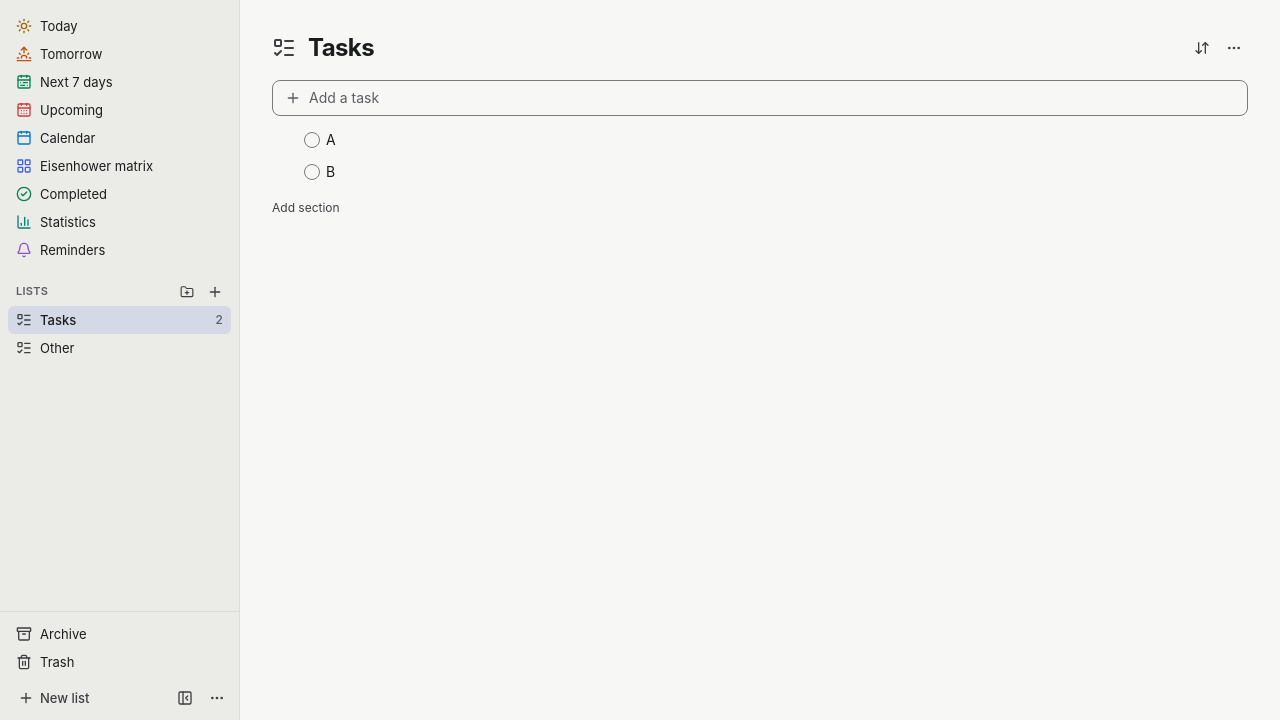
Test case: selecting several tasks in a to-do list › hides the details panel while several are selected
Step 1. Click the list item named "A" → point(338, 140), box [304,128,373,152]
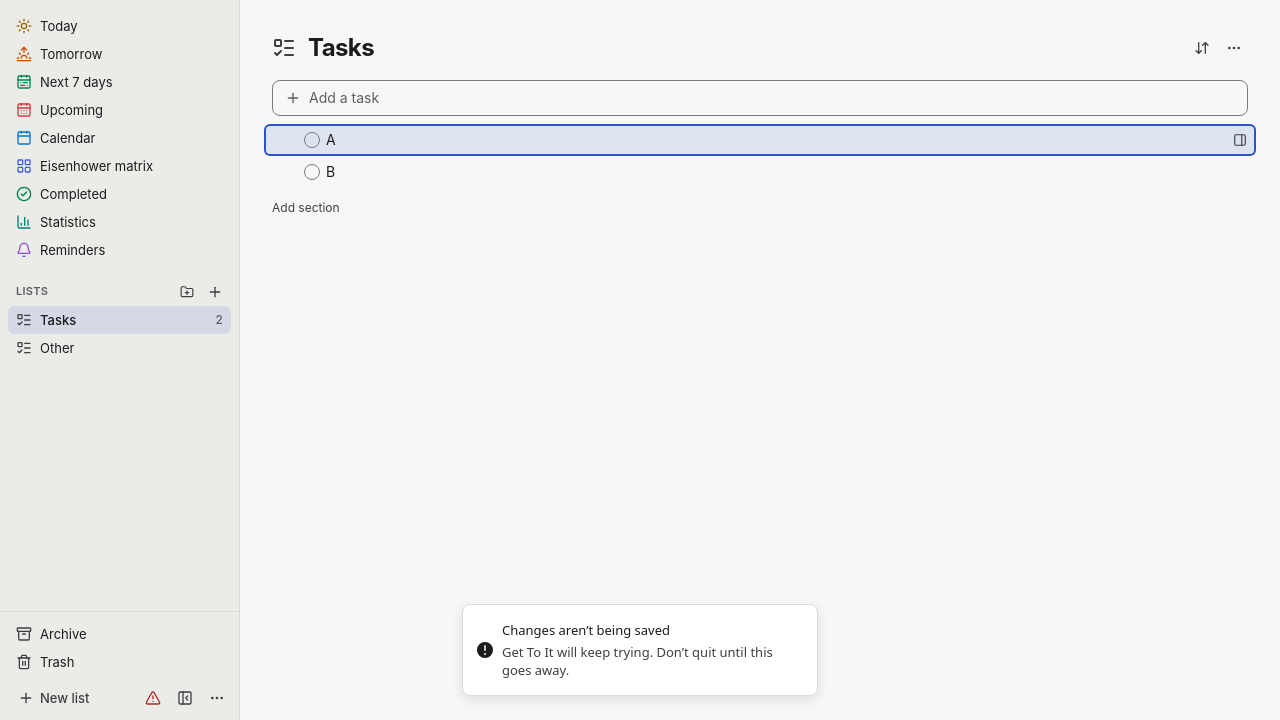
Step 2. Type keys "{Control>}i{/Control}"
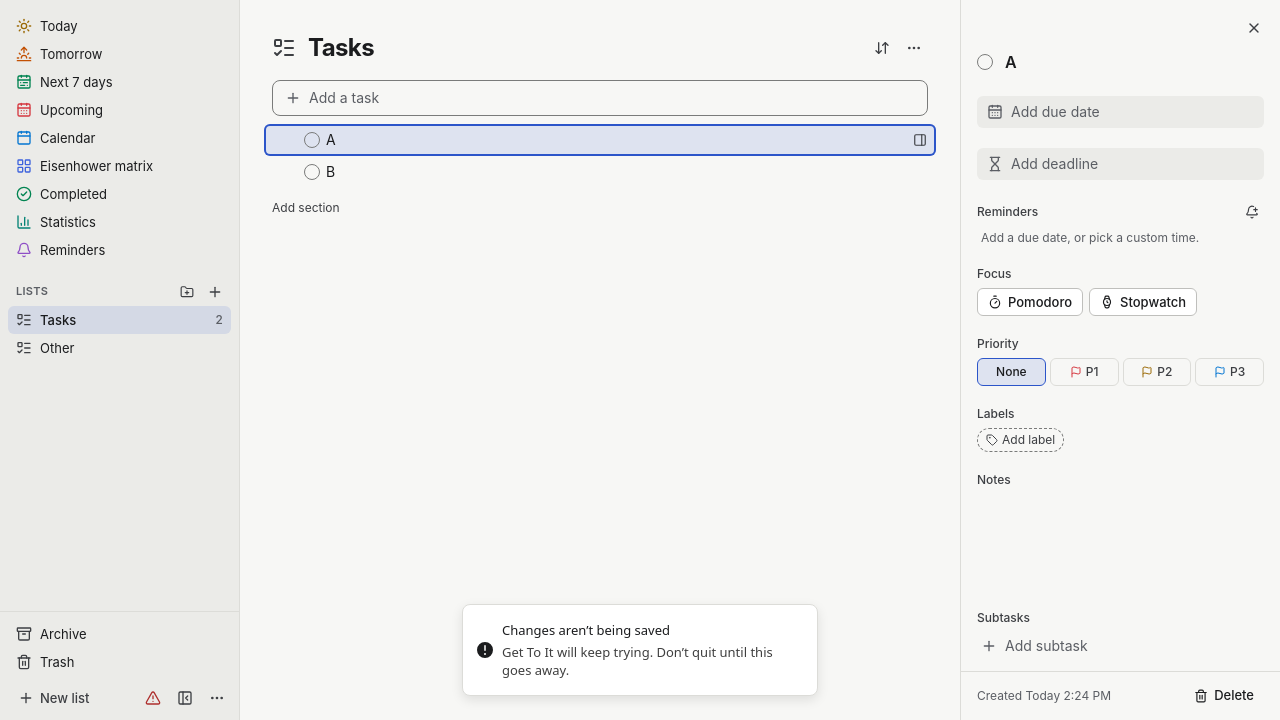
Now the text box named "Task title" is shown, box [1001,48,1264,76]
Step 3. Type keys "{Shift>}"
Step 4. Click the list item named "B" → point(338, 172), box [304,160,373,184]
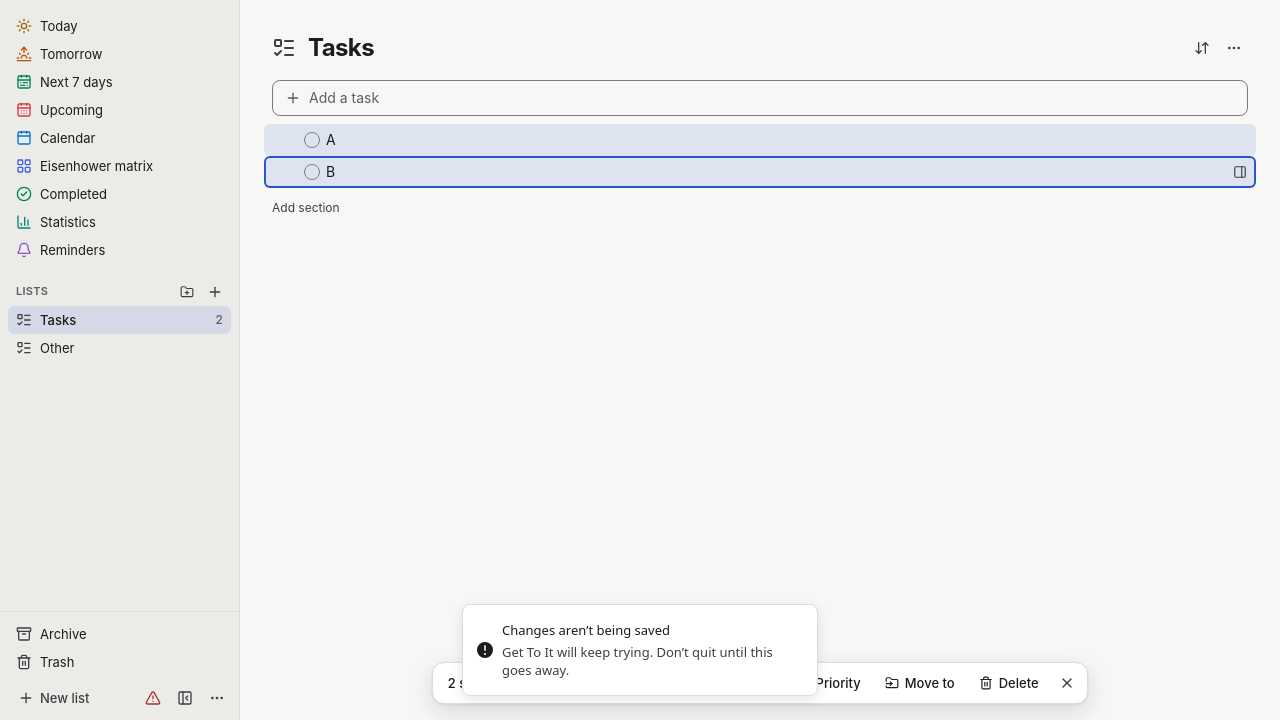
Step 5. Type keys "{/Shift}"
Step 6. Click the list item named "A" → point(760, 140), box [264,124,1256,156]
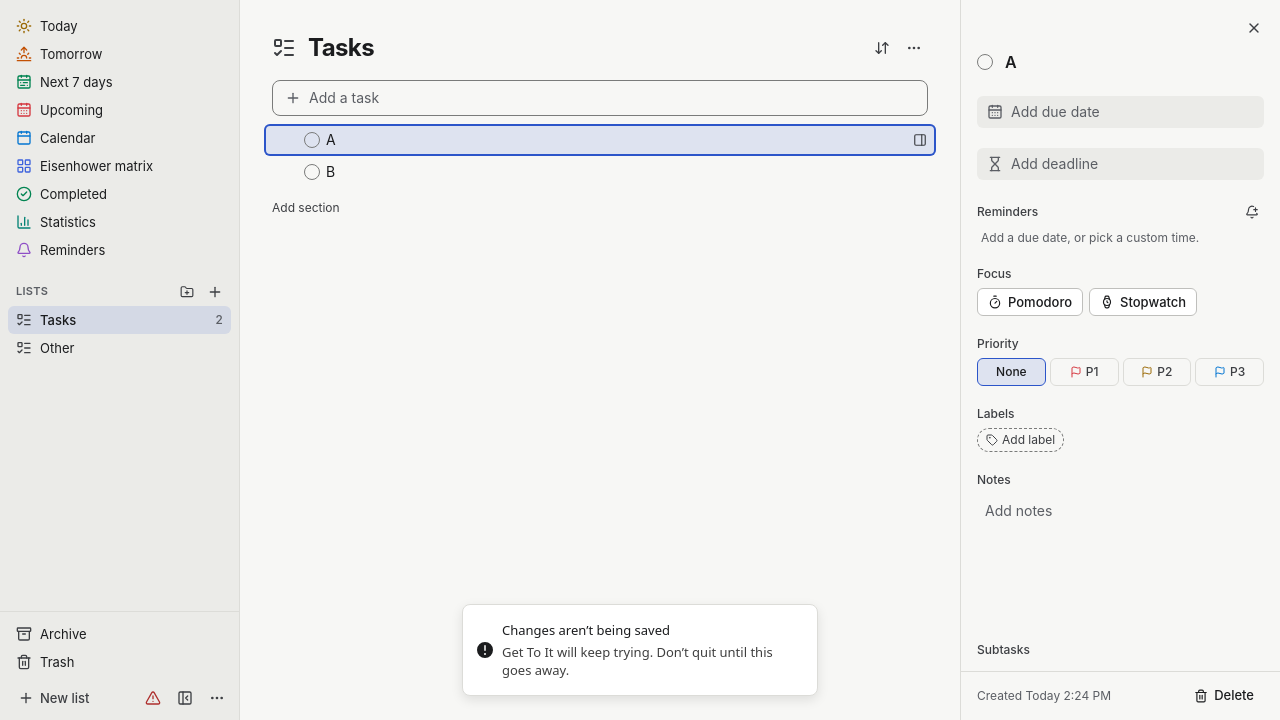
Now the text box named "Task title" is shown, box [1001,48,1264,76]
